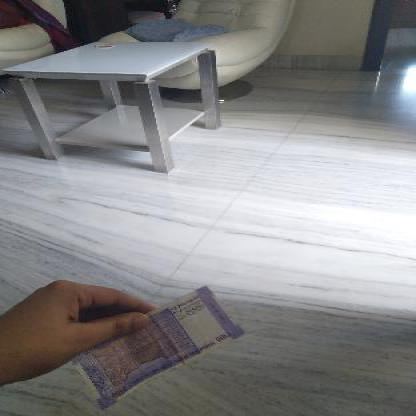New100Back: (68, 286, 232, 402)
